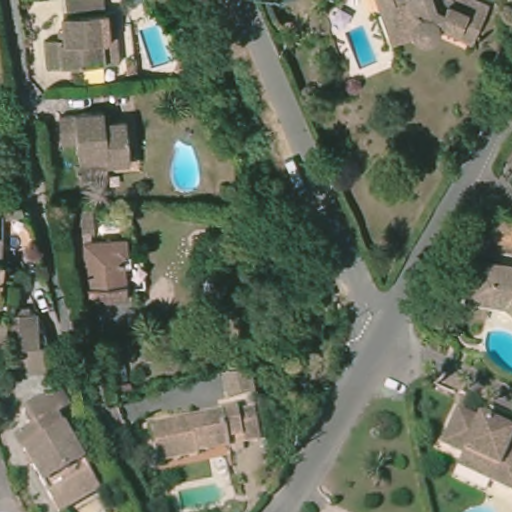pool: (165, 139, 204, 196), (340, 23, 381, 72), (135, 21, 175, 69), (481, 326, 512, 372), (174, 480, 223, 509)
